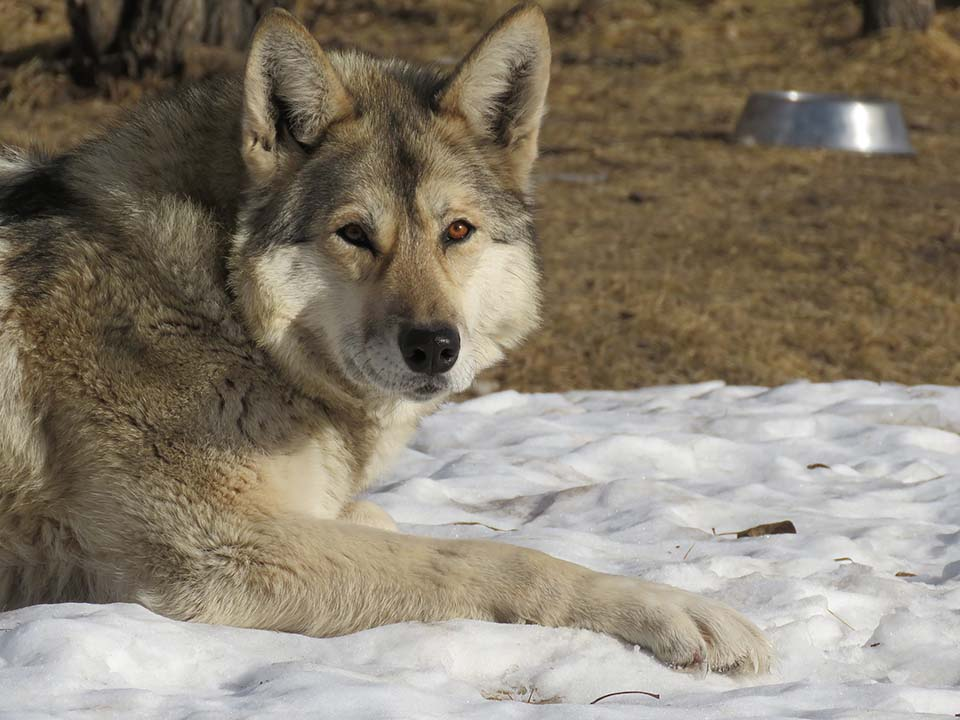Lobo: (60, 1, 780, 689)
